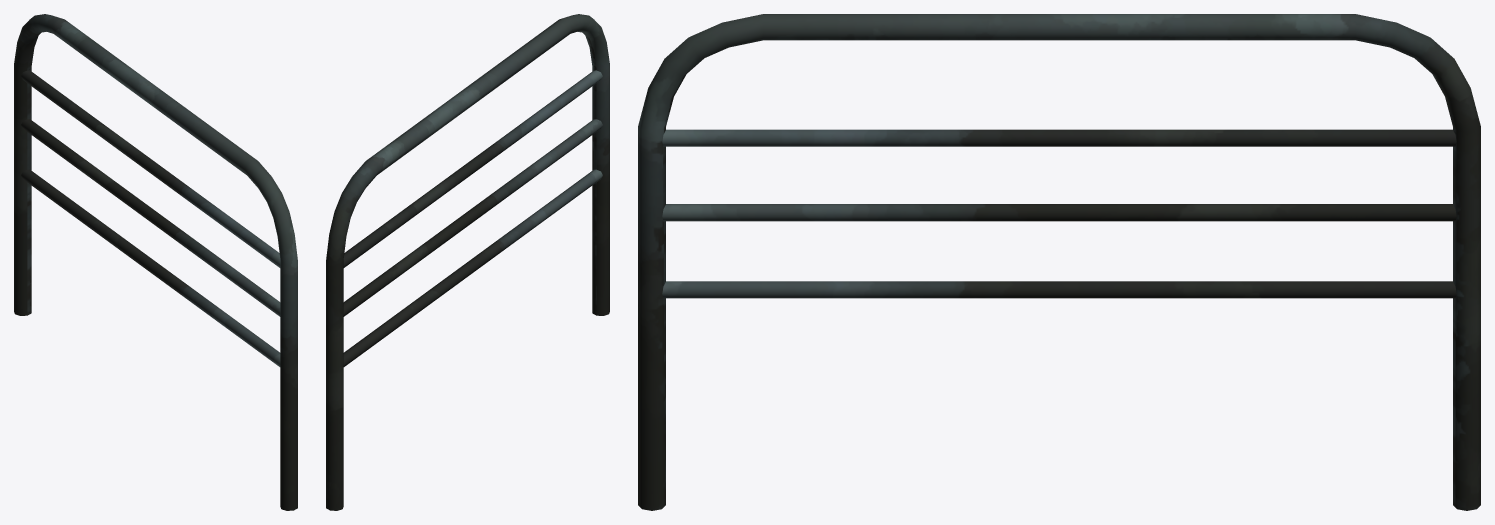
Rendered from Fence.fbx.
3 views of the same model, side by side, from view 1: azimuth 30°, elevation 25°; view 2: azimuth 150°, elevation 25°; view 3: azimuth 270°, elevation 25° (orthographic). The views are drawn at different scales.
Parts seen in each view (by area): view 1: Fence; view 2: Fence; view 3: Fence.
Part boxes in pixels (x1,y1,x2,y2): Fence: [14, 14, 297, 510]; Fence: [326, 14, 609, 510]; Fence: [638, 14, 1480, 510].
Size of the model in its own units: 2.69 by 51.85 by 80.74.
